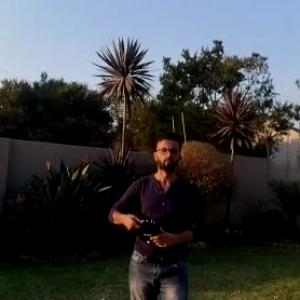follow: (104, 125, 212, 299)
